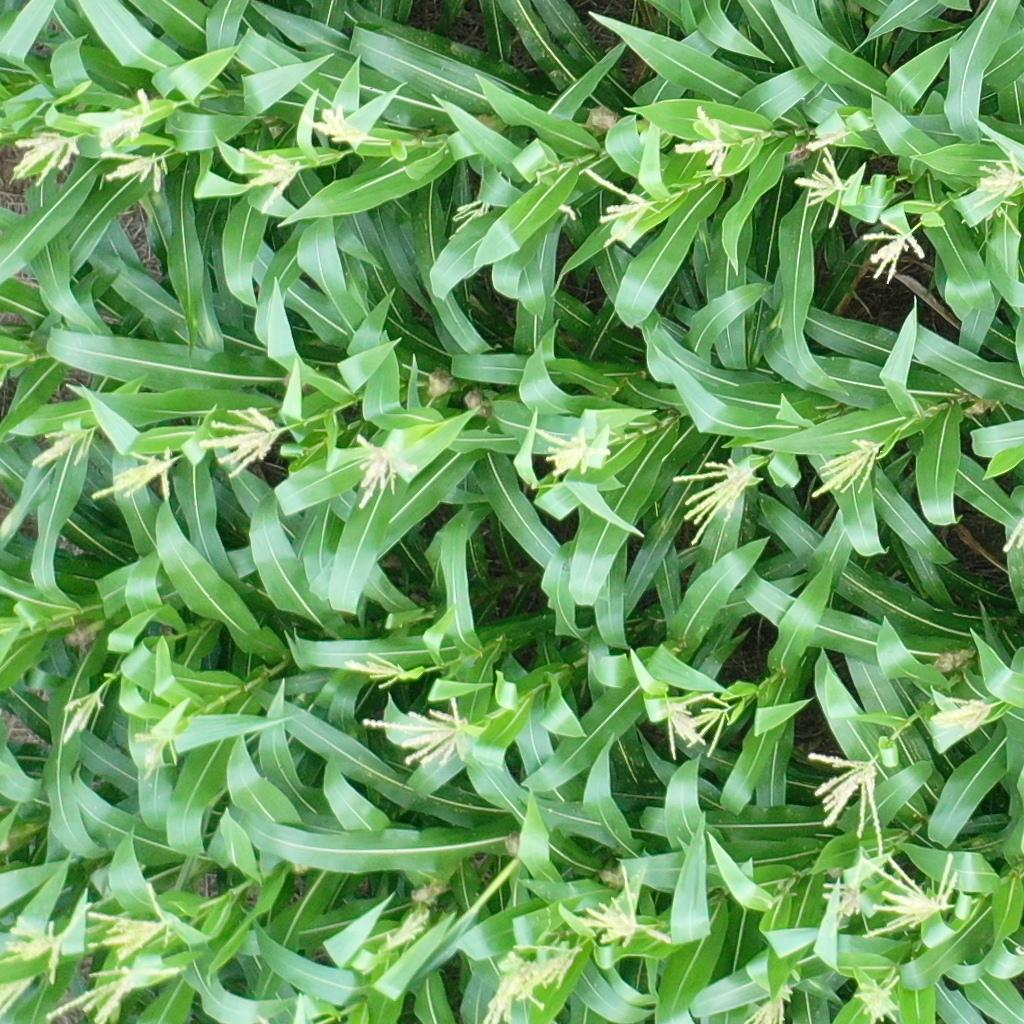Tassel: (858, 853, 965, 936), (806, 748, 890, 847), (359, 697, 483, 764), (672, 452, 757, 547), (86, 883, 182, 964), (586, 863, 674, 950), (3, 900, 90, 987), (48, 968, 182, 1024), (192, 402, 283, 480), (574, 161, 668, 235), (236, 138, 311, 216), (90, 451, 193, 507), (792, 144, 854, 232), (7, 126, 88, 193), (479, 951, 548, 1024), (354, 432, 419, 504), (669, 105, 732, 177), (809, 438, 882, 497), (862, 224, 928, 287), (518, 936, 582, 1000), (95, 88, 161, 149), (32, 419, 101, 476), (816, 851, 865, 925), (659, 691, 713, 756), (536, 425, 598, 480), (305, 94, 369, 145), (99, 148, 173, 192), (847, 969, 905, 1024), (56, 691, 110, 743), (689, 693, 733, 753), (339, 649, 405, 689), (970, 153, 1011, 213), (926, 697, 994, 733), (742, 979, 795, 1024), (449, 198, 501, 240), (378, 907, 426, 950), (132, 731, 173, 772), (1, 974, 36, 1018)
